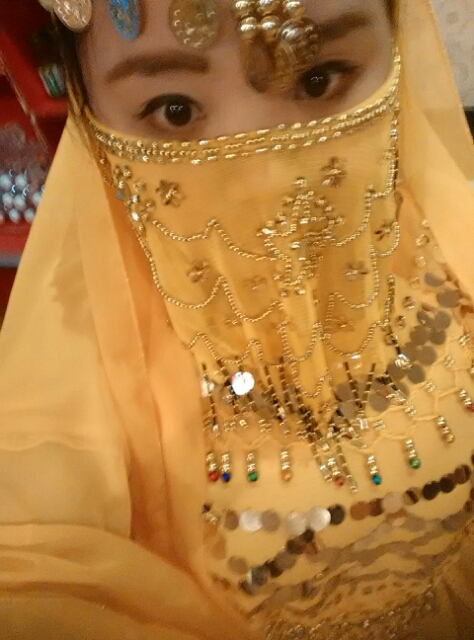face_mask: (82, 1, 397, 319)
